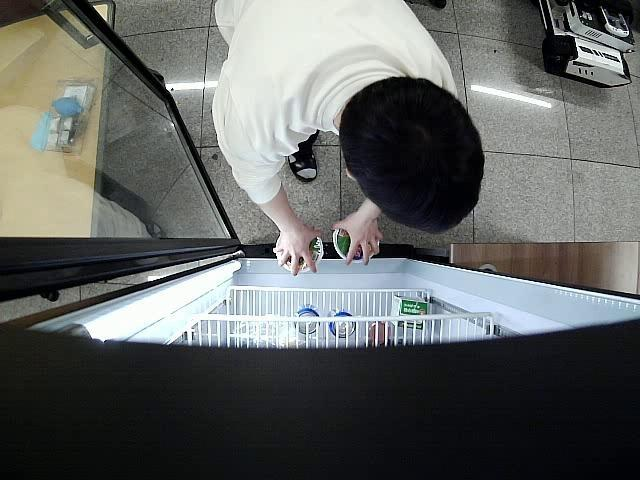09_yukGaeJang: (274, 237, 323, 276), (334, 226, 379, 263)
